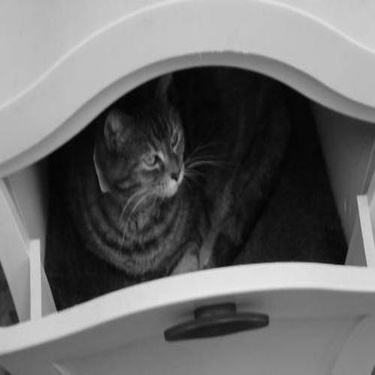cat: (19, 58, 299, 280)
